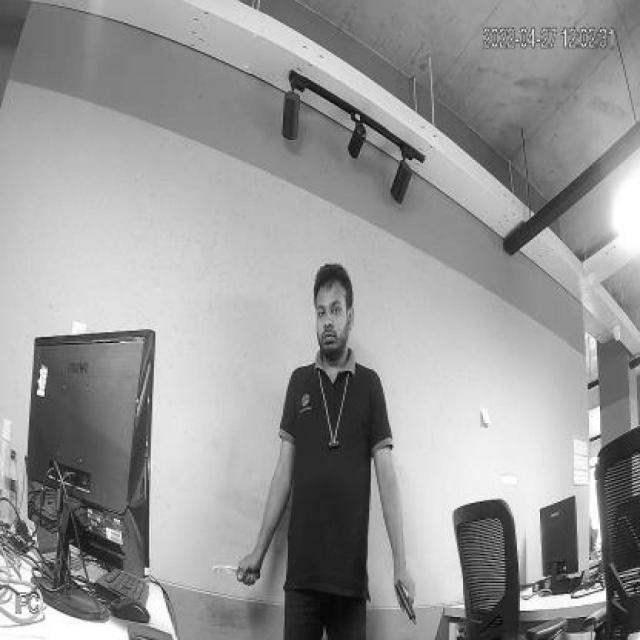weapon: (393, 577, 419, 628)
